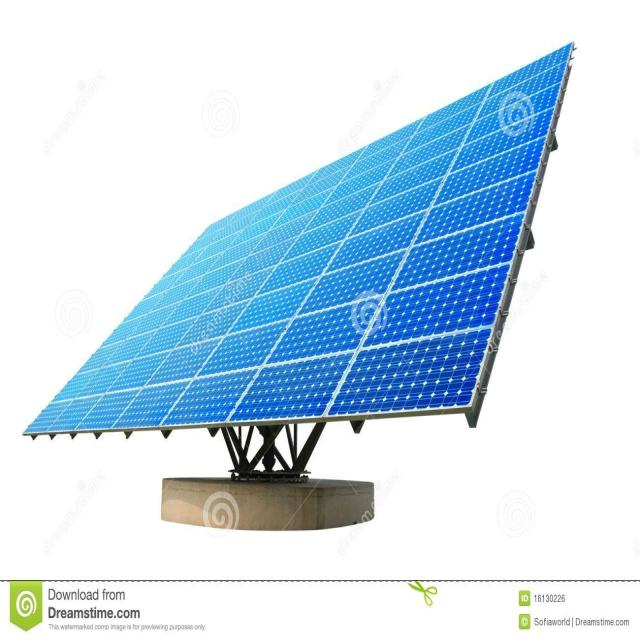clean-solar-panel: (25, 44, 574, 530)
